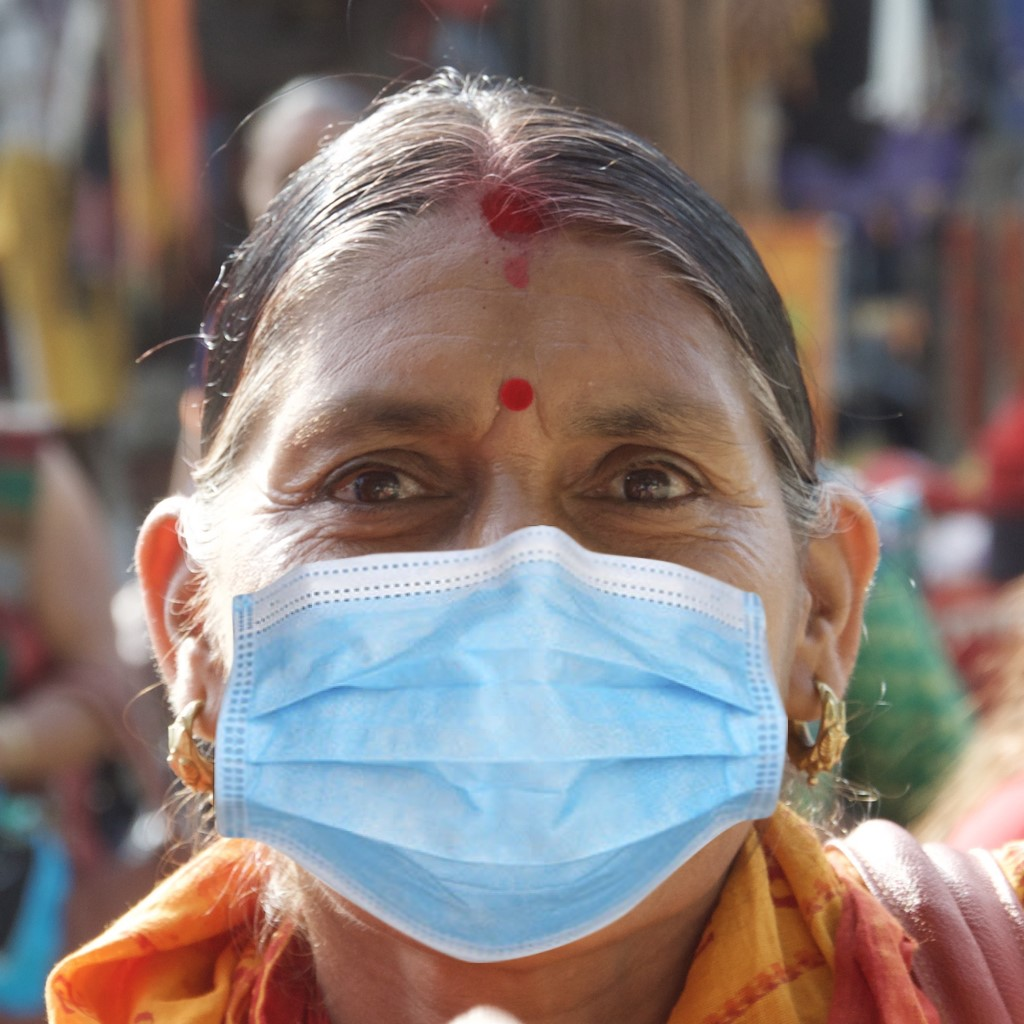con_mascara: (242, 199, 788, 931)
